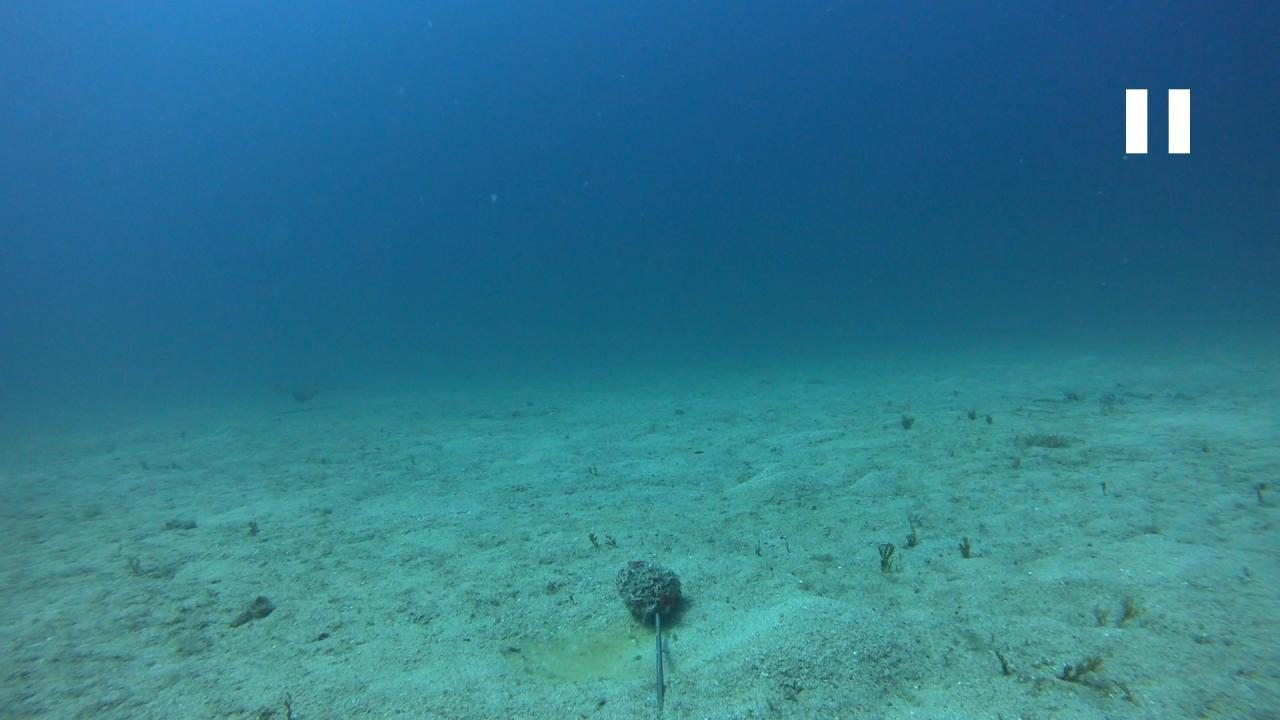dasyatis: (268, 378, 354, 401)
